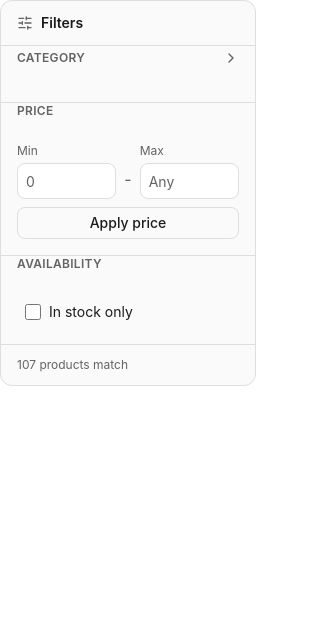
Test: FilterPanel › groups leaf categories under their parent and shows each count
The image size is (320, 625).
Click the button "Category" at (128, 58), box [17,46,239,70]
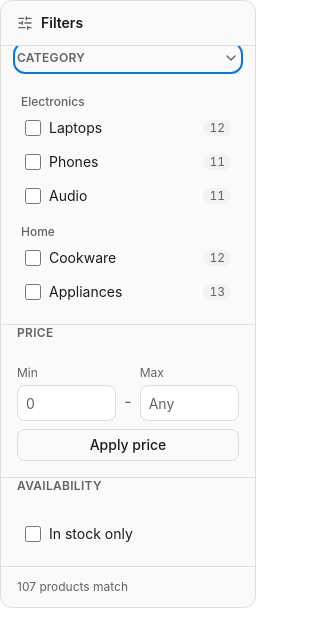
Expected: the text "Electronics" is shown, [21,94,85,109]
Expected: the checkbox named "Laptops, 12 products" is shown, [25,120,41,136]
Expected: the checkbox named "Appliances, 13 products" is shown, [25,284,41,300]
